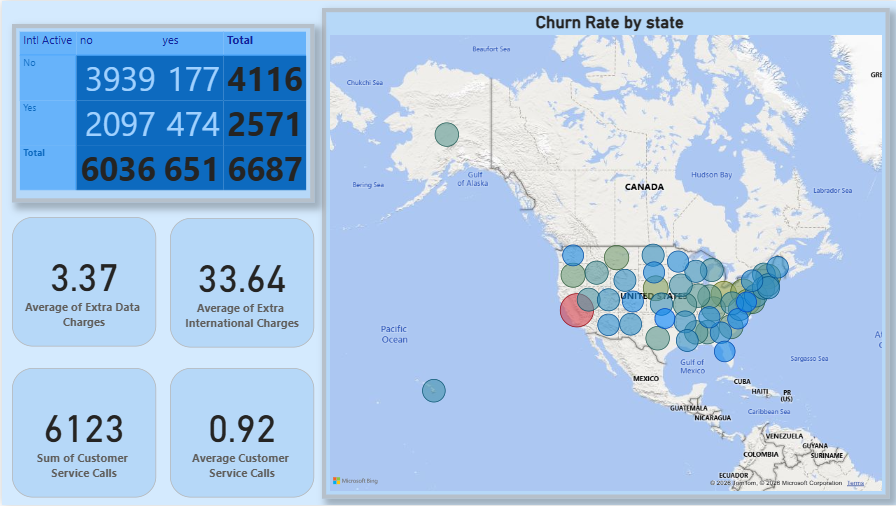

The dashboard page shown, as its layout file describes it:
{"tool":"powerbi","page":{"name":"International Plan","canvas":[1280,720],"ordinal":2},"visuals":[{"type":"map","title":"Churn Rate by state","fields":{"Category":["Databel - Data.State"],"Size":["Databel - Data.Churn Rate"]},"box":[456.9,9.6,810.7,700.6],"z":0},{"type":"pivotTable","fields":{"Rows":["Databel - Data.Intl Active"],"Columns":["Databel - Data.Intl Plan"],"Values":["Databel - Data.Total customer"]},"box":[13.8,33,432.2,254.6],"z":1000},{"type":"card","fields":{"Values":["Avg(Databel - Data.Extra International Charges)"]},"box":[240.2,309.8,205.6,185.5],"z":3000,"group":"g1"},{"type":"card","fields":{"Values":["Avg(Databel - Data.Extra Data Charges)"]},"box":[13.8,308.3,205.6,185.5],"z":4000,"group":"g1"},{"type":"card","fields":{"Values":["Sum(Databel - Data.Customer Service Calls)"]},"box":[13.8,524.7,205.8,185.5],"z":5000,"group":"g1"},{"type":"card","fields":{"Values":["Databel - Data.Average Customer Service Calls"]},"box":[240.2,524.7,205.8,185.5],"z":6000,"group":"g1"},{"type":"group","id":"g1","title":"Group 1","box":[13.8,308.3,432.2,401.9],"z":6001}]}

Visuals, with their boxes in screenshot pixels (x1, y1, x2, y2), scaled from the page's 1280x720 canvas onto the 896x506 screenshot:
"Churn Rate by state" map: x1=320 y1=7 x2=887 y2=499
pivotTable - Databel - Data.Intl Active x Databel - Data.Intl Plan: x1=10 y1=23 x2=312 y2=202
card - Avg(Databel - Data.Extra International Charges): x1=168 y1=218 x2=312 y2=348
card - Avg(Databel - Data.Extra Data Charges): x1=10 y1=217 x2=154 y2=347
card - Sum(Databel - Data.Customer Service Calls): x1=10 y1=369 x2=154 y2=499
card - Databel - Data.Average Customer Service Calls: x1=168 y1=369 x2=312 y2=499
"Group 1" group: x1=10 y1=217 x2=312 y2=499
